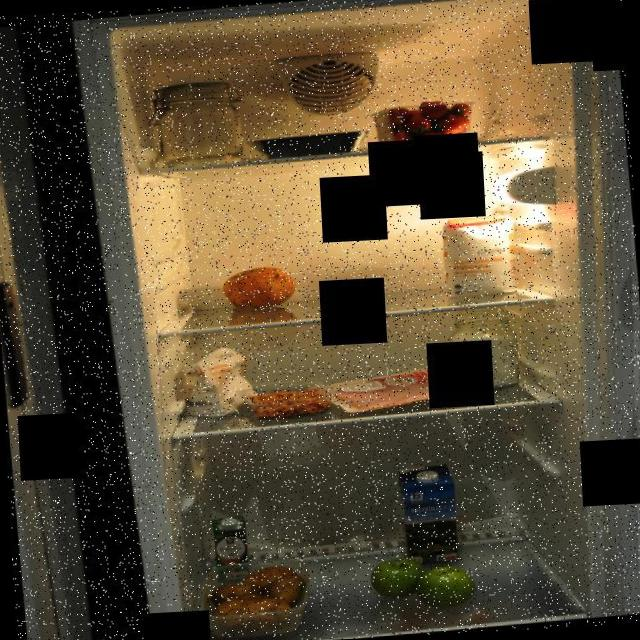Carne cerdo: (319, 361, 482, 416)
Gambas/Langostinos: (253, 384, 334, 421)
Leche: (394, 462, 466, 568)
Manzana: (366, 546, 485, 612)
Patata: (195, 554, 309, 638)
